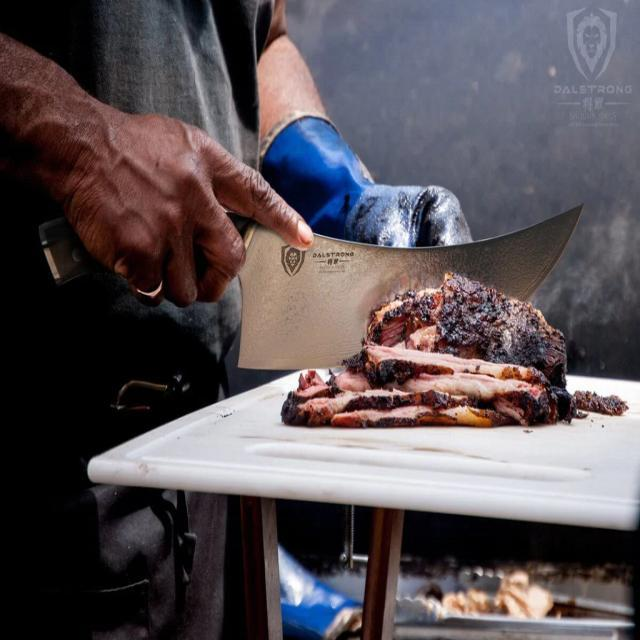cleaver: (41, 101, 588, 368)
